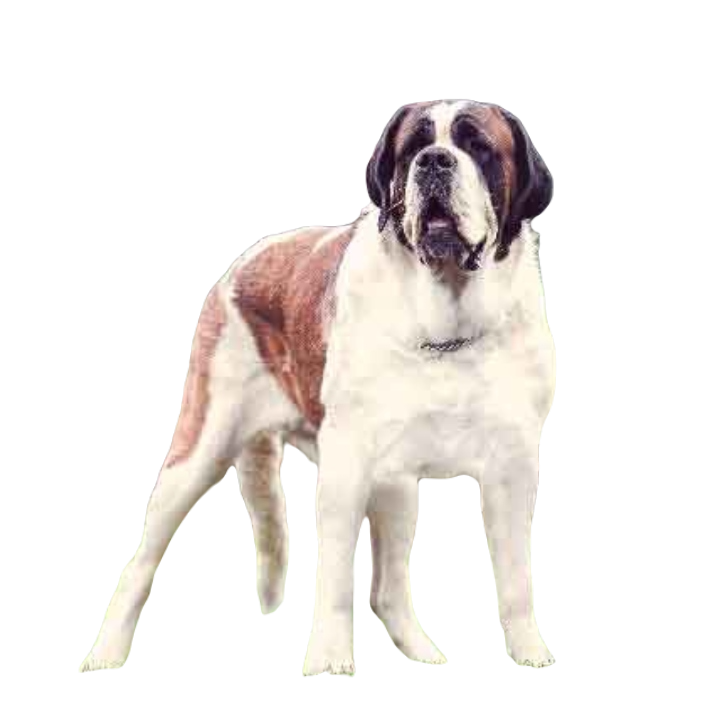Dog: (79, 96, 557, 678)
